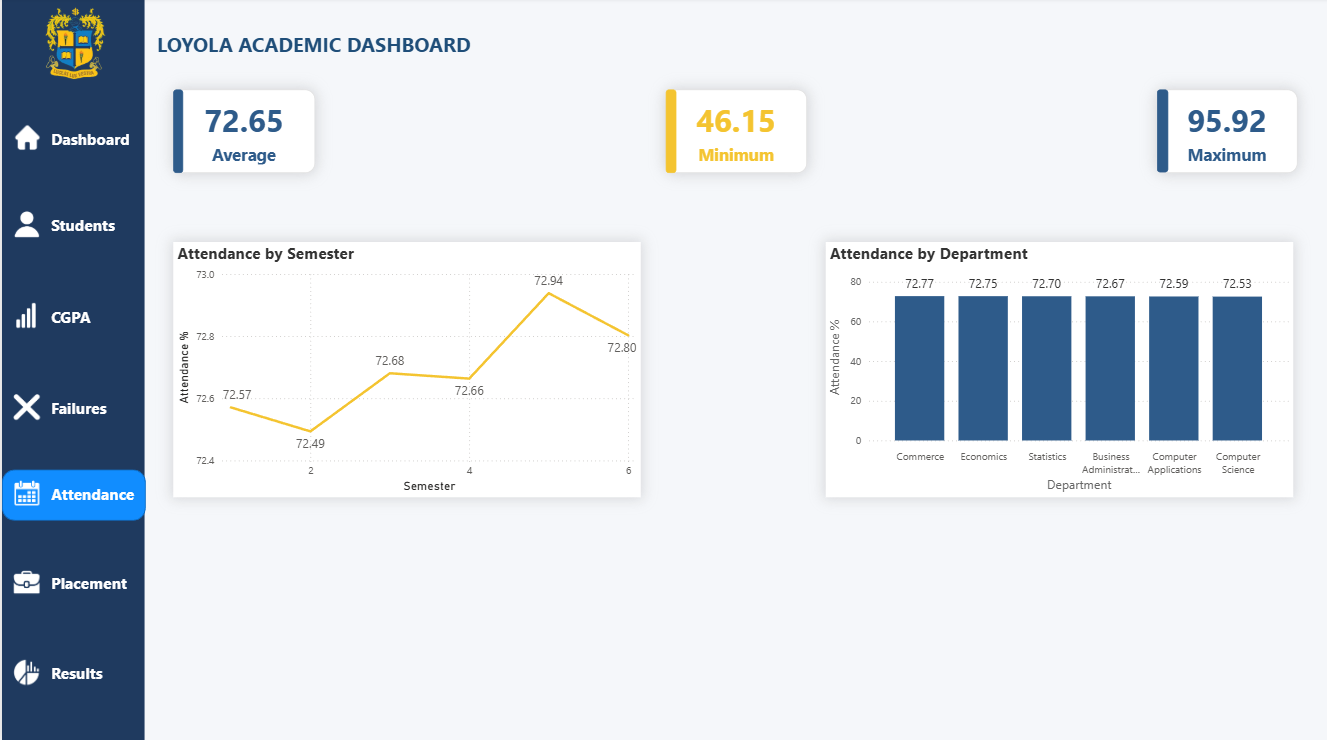

This screenshot's page, from the dashboard's own definition file:
{"tool":"powerbi","page":{"name":"Attendance","canvas":[1600,900],"ordinal":4},"visuals":[{"type":"shape","box":[0,0,171.9,900.3],"z":0},{"type":"textbox","box":[173.4,36.2,405.7,64.8],"z":1000},{"type":"image","box":[12.9,257.2,33.2,33.2],"z":1000,"group":"g4"},{"type":"image","box":[39.2,9,98,95],"z":2000},{"type":"card","fields":{"Values":["attendance_summary.Avg Attendance"]},"box":[206.6,111.6,171.3,101],"z":3000,"group":"g1"},{"type":"card","fields":{"Values":["attendance_summary.Max Attendance"]},"box":[1393.4,111.6,169.5,101],"z":3000,"group":"g10"},{"type":"image","box":[12.9,367.3,33.2,33.2],"z":4000,"group":"g5"},{"type":"card","fields":{"Values":["attendance_summary.Min Attendance"]},"box":[800.6,111.7,170.2,101],"z":5000,"group":"g2"},{"type":"lineChart","title":"Attendance by Semester","fields":{"Category":["attendance_summary.Semester"],"Y":["attendance_summary.Attendance %"]},"box":[206.6,296.2,564,307.6],"z":6000},{"type":"image","box":[12.9,477.4,33.2,33.2],"z":6000,"group":"g6"},{"type":"clusteredColumnChart","title":"Attendance by Department","fields":{"Category":["students.Department"],"Y":["attendance_summary.Attendance %"]},"box":[993.5,296.2,564,307.6],"z":8000},{"type":"image","box":[12.9,583,33.2,33.2],"z":8000,"group":"g8"},{"type":"group","id":"g1","title":"Group 1","box":[206.6,111.6,171.3,101.1],"z":9000},{"type":"group","id":"g2","title":"Group 2","box":[800.6,111.4,170.2,101.2],"z":10000},{"type":"image","box":[12.9,688.5,33.2,33.2],"z":10000,"group":"g7"},{"type":"group","id":"g3","title":"Group 4","box":[1393.4,111.6,170.4,101],"z":11000},{"type":"group","id":"g4","title":"Group 8","box":[12.9,257.2,136.1,40.2],"z":12000},{"type":"image","box":[12.9,797.1,33.2,33.2],"z":12000,"group":"g9"},{"type":"group","id":"g5","title":"Group 9","box":[12.9,367.3,101.8,40.2],"z":13000},{"type":"group","id":"g6","title":"Group 10","box":[12.9,477.4,136.1,40.1],"z":14000},{"type":"shape","title":"Shape1","box":[0,570,173.4,61.8],"z":14000,"group":"g12"},{"type":"image","title":"Home","box":[12.9,153.2,33.2,31.7],"z":15000,"group":"g11"},{"type":"group","id":"g7","title":"Group 12","box":[12.9,688.5,150.5,40],"z":15000},{"type":"group","id":"g8","title":"Group 11","box":[12.9,582.5,160.2,39.7],"z":16000,"group":"g12"},{"type":"group","id":"g9","title":"Group 13","box":[12.9,797,114.4,39.7],"z":16000},{"type":"group","id":"g10","title":"Group 5","box":[1393.4,111.6,169.5,101],"z":16001,"group":"g3"},{"type":"shape","box":[206.8,111.8,12.4,101],"z":17000,"group":"g1"},{"type":"shape","box":[1393.7,112,13.6,100],"z":17000,"group":"g10"},{"type":"group","id":"g11","title":"Group 6","box":[12.9,153.2,148.7,39.7],"z":17000},{"type":"shape","box":[800.7,111.4,12.5,100.8],"z":18000,"group":"g2"},{"type":"group","id":"g12","title":"Group 3","box":[0,570,173.4,61.8],"z":18000},{"type":"textbox","box":[53.4,153.2,108.2,39.7],"z":24000,"group":"g11"},{"type":"textbox","box":[53.4,257.8,95.6,39.7],"z":25000,"group":"g4"},{"type":"textbox","box":[53.4,367.8,61.3,39.7],"z":26000,"group":"g5"},{"type":"textbox","box":[53.4,477.8,95.6,39.7],"z":27000,"group":"g6"},{"type":"textbox","box":[54.1,582.5,119,39.7],"z":28000,"group":"g8"},{"type":"textbox","box":[53.4,688.8,110,39.7],"z":29000,"group":"g7"},{"type":"textbox","box":[53.4,797,73.9,39.7],"z":30000,"group":"g9"}]}

Visuals, with their boxes on the page's 1600x900 design canvas (x1, y1, x2, y2). These are canvas units, not pixel positions in the 1327x740 screenshot, which may show the page scaled, cropped or inside an application window:
shape: locate(0, 0, 172, 900)
textbox: locate(173, 36, 579, 101)
image: locate(13, 257, 46, 290)
image: locate(39, 9, 137, 104)
card - attendance_summary.Avg Attendance: locate(207, 112, 378, 213)
card - attendance_summary.Max Attendance: locate(1393, 112, 1563, 213)
image: locate(13, 367, 46, 400)
card - attendance_summary.Min Attendance: locate(801, 112, 971, 213)
"Attendance by Semester" lineChart: locate(207, 296, 771, 604)
image: locate(13, 477, 46, 511)
"Attendance by Department" clusteredColumnChart: locate(994, 296, 1558, 604)
image: locate(13, 583, 46, 616)
"Group 1" group: locate(207, 112, 378, 213)
"Group 2" group: locate(801, 111, 971, 213)
image: locate(13, 688, 46, 722)
"Group 4" group: locate(1393, 112, 1564, 213)
"Group 8" group: locate(13, 257, 149, 297)
image: locate(13, 797, 46, 830)
"Group 9" group: locate(13, 367, 115, 408)
"Group 10" group: locate(13, 477, 149, 518)
"Shape1" shape: locate(0, 570, 173, 632)
"Home" image: locate(13, 153, 46, 185)
"Group 12" group: locate(13, 688, 163, 728)
"Group 11" group: locate(13, 582, 173, 622)
"Group 13" group: locate(13, 797, 127, 837)
"Group 5" group: locate(1393, 112, 1563, 213)
shape: locate(207, 112, 219, 213)
shape: locate(1394, 112, 1407, 212)
"Group 6" group: locate(13, 153, 162, 193)
shape: locate(801, 111, 813, 212)
"Group 3" group: locate(0, 570, 173, 632)
textbox: locate(53, 153, 162, 193)
textbox: locate(53, 258, 149, 298)
textbox: locate(53, 368, 115, 408)
textbox: locate(53, 478, 149, 518)
textbox: locate(54, 582, 173, 622)
textbox: locate(53, 689, 163, 728)
textbox: locate(53, 797, 127, 837)
